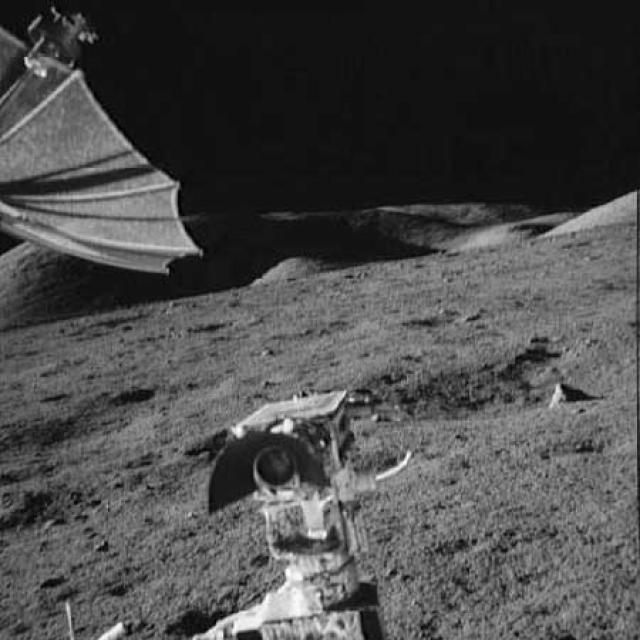artifact: (175, 374, 405, 639), (0, 9, 213, 276)
crater: (356, 345, 604, 409)
